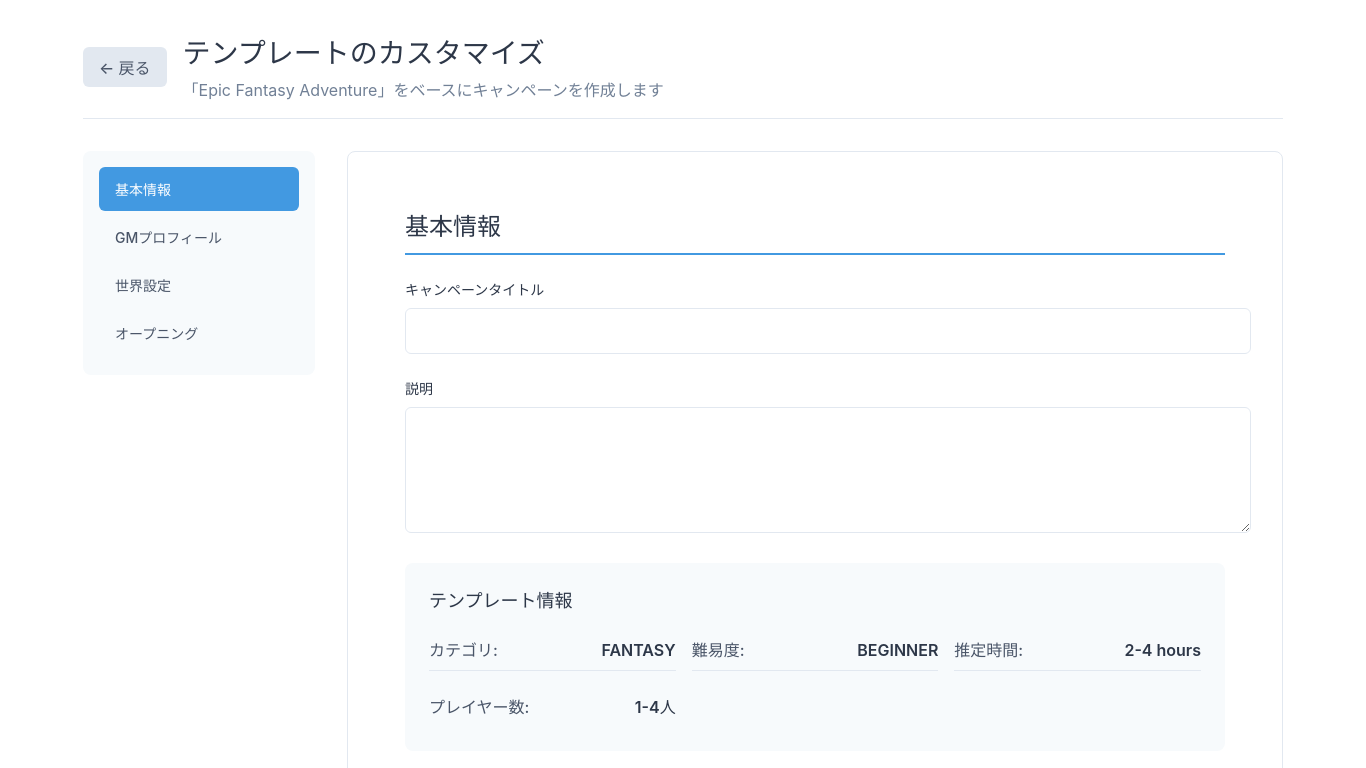
Test case: TemplateCustomizer Security Tests › XSS Prevention › should sanitize user input in form fields
Clear the field labelled "キャンペーンタイトル": coordinates (828, 331) [405,308,1251,354]
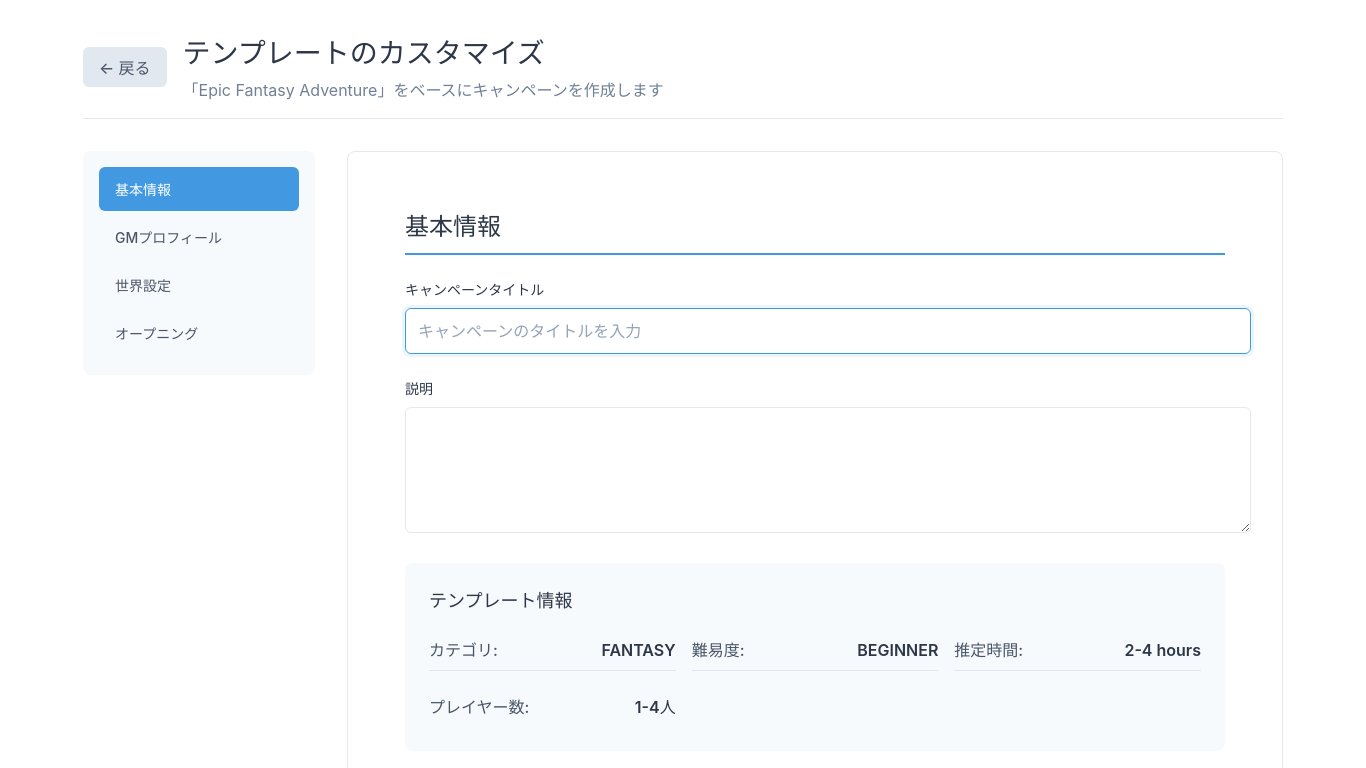
Type keys "<script>alert(\"input-xss\")</script>Hacked Title"
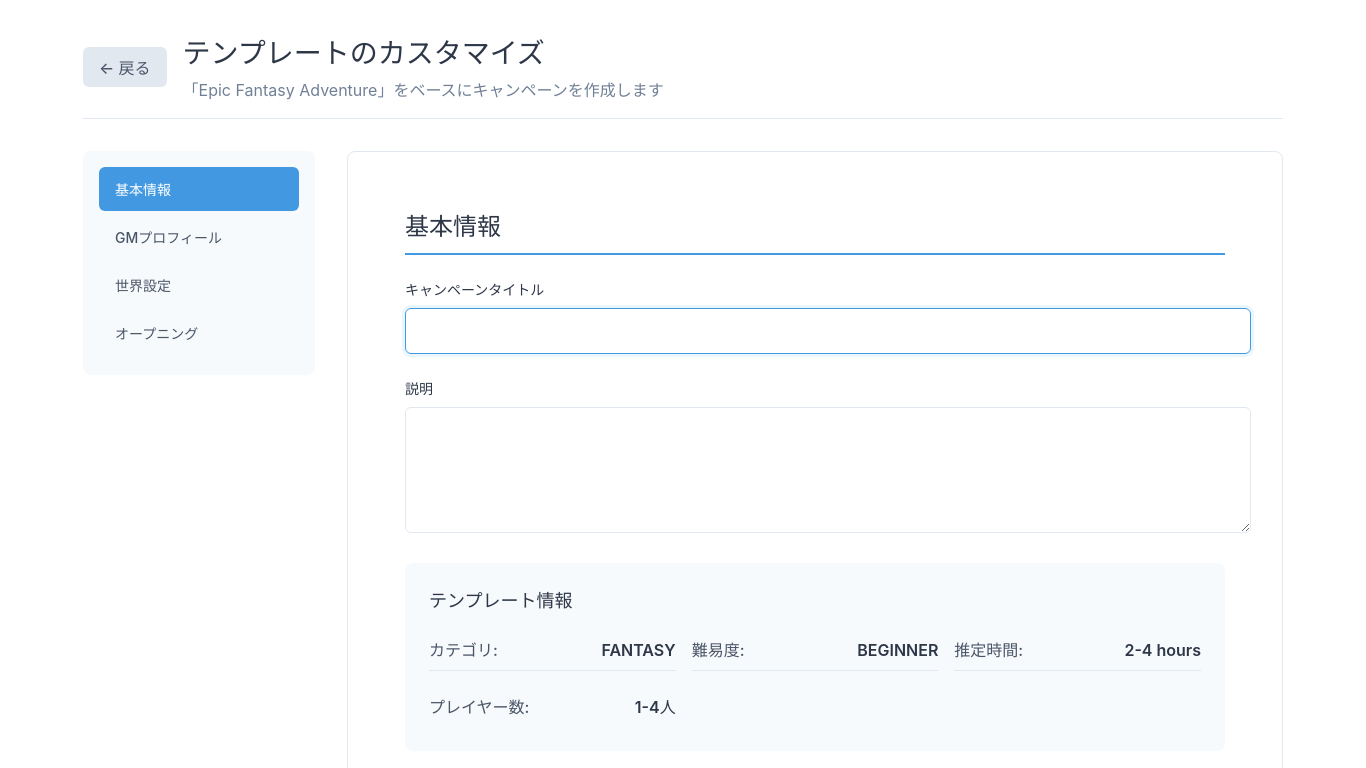
Expected: the field labelled "キャンペーンタイトル" holds "<script>alert(\"input-xss\")</script>Hacked Title", [405,308,1251,354]
